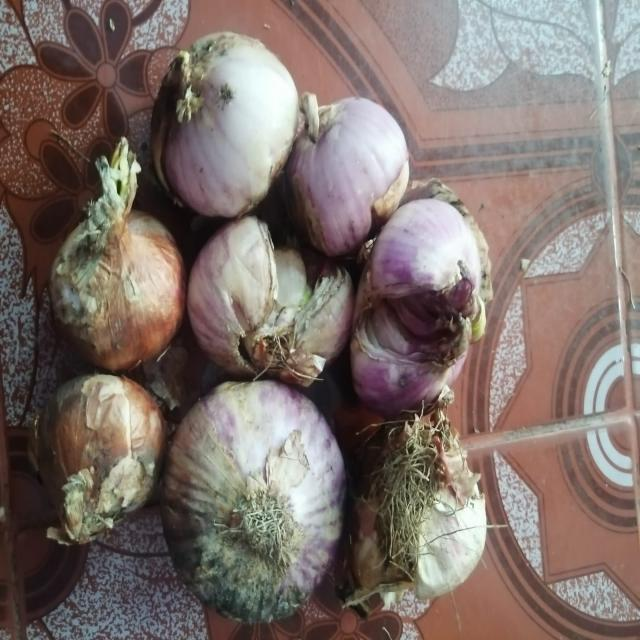rotten: (152, 46, 230, 144), (364, 286, 436, 359), (51, 232, 108, 320), (266, 234, 325, 316), (190, 560, 301, 603), (90, 436, 144, 522), (407, 436, 470, 506)
sprouting: (353, 164, 408, 231), (472, 301, 490, 344)
